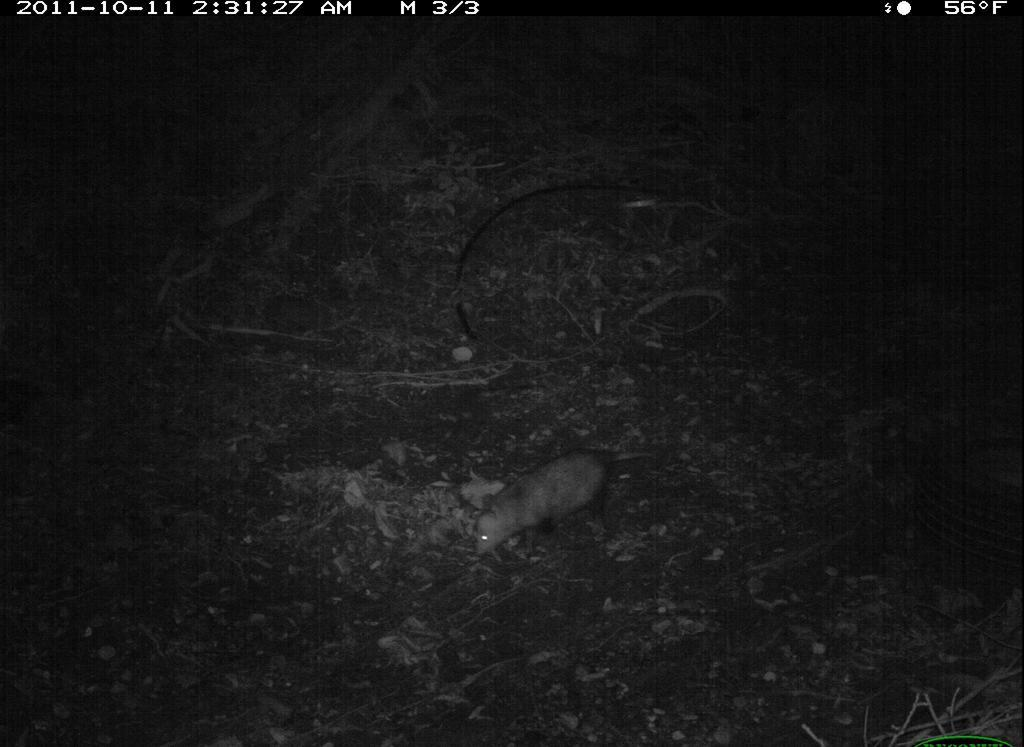opossum: (452, 434, 635, 561)
